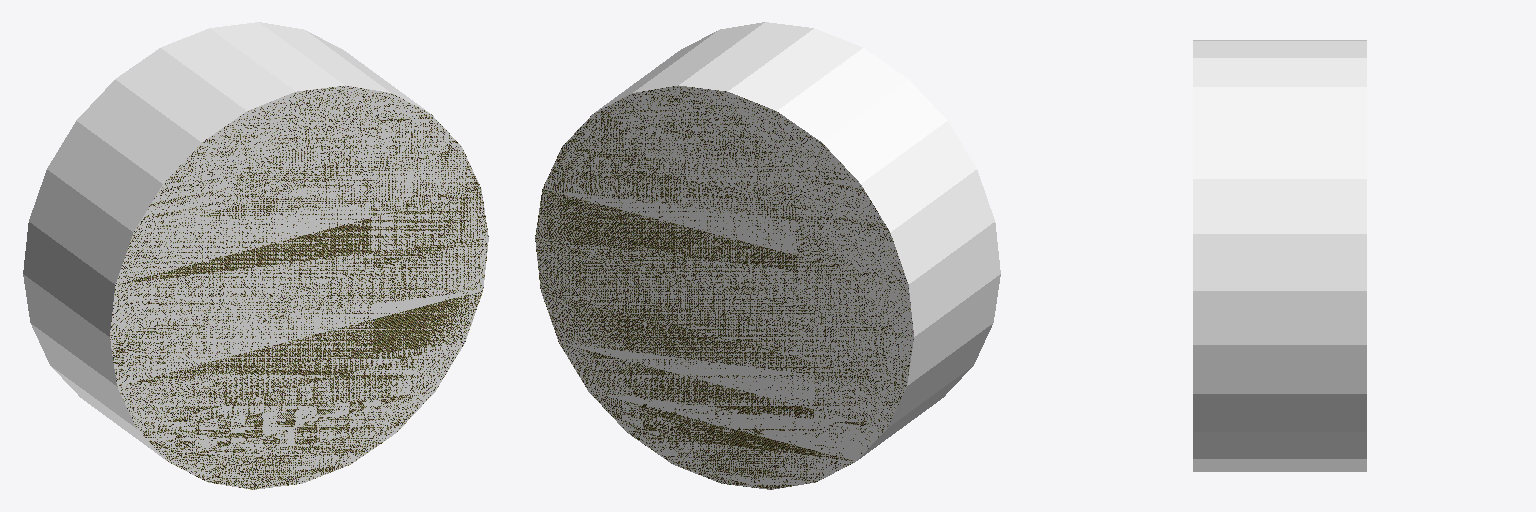
The picture shows the model from 3 angles: view 1: azimuth 30°, elevation 25°; view 2: azimuth 150°, elevation 25°; view 3: azimuth 270°, elevation 25°; orthographic projection.
Parts seen in each view (by area): view 1: mesh30/mesh30-geometry#mesh30-geometry; view 2: mesh30/mesh30-geometry#mesh30-geometry; view 3: mesh30/mesh30-geometry#mesh30-geometry.
Part boxes in pixels (x1,y1,x2,y2): mesh30/mesh30-geometry#mesh30-geometry: (23,22,488,489); mesh30/mesh30-geometry#mesh30-geometry: (535,22,1000,489); mesh30/mesh30-geometry#mesh30-geometry: (1193,40,1366,471).
Size of the model in its own units: 0.3479 by 0.3452 by 0.1378.
Materials: 3 (1 with a texture image).